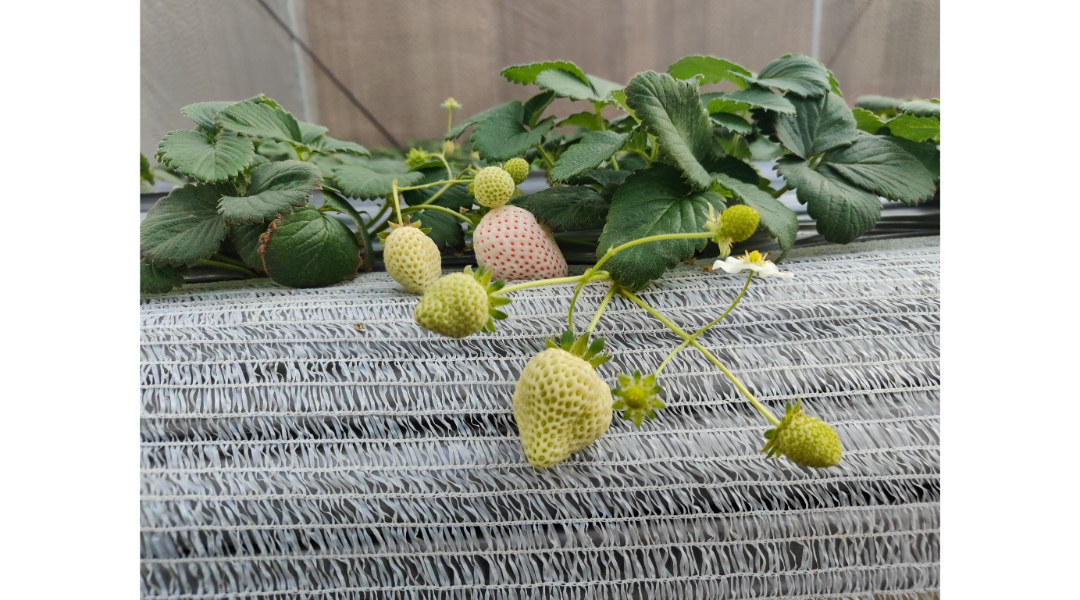berry: (502, 332, 613, 474), (404, 261, 506, 336), (473, 204, 568, 270), (764, 404, 850, 474), (373, 219, 446, 292), (609, 362, 675, 424), (697, 197, 764, 250), (465, 161, 512, 213), (496, 148, 534, 185)
flower: (710, 240, 794, 283)
strain: (698, 345, 770, 413), (608, 224, 708, 257), (627, 292, 683, 334), (716, 285, 749, 330)
